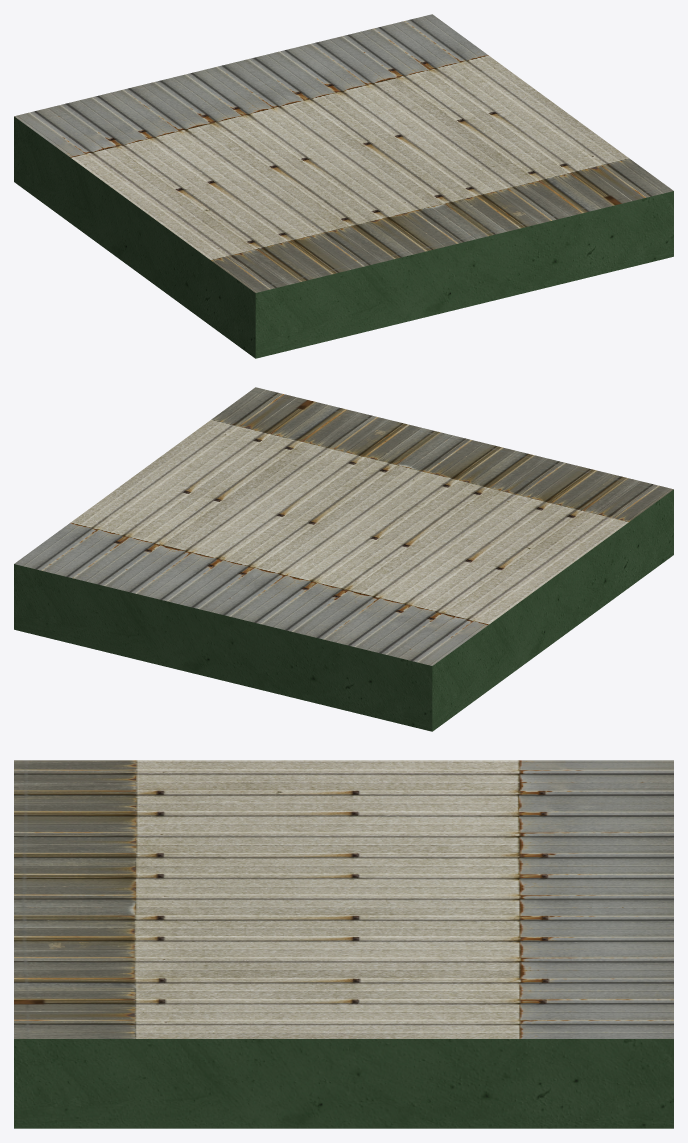
Rendered from bridgePiece1.FBX.
The picture shows the model from 3 angles, top to bottom: view 1: azimuth 30°, elevation 25°; view 2: azimuth 150°, elevation 25°; view 3: azimuth 270°, elevation 25°; orthographic projection. The views are drawn at different scales.
Visible parts, largest first — view 1: Box001; view 2: Box001; view 3: Box001.
Boxes of the visible parts, box(x1,y1,x2,y2) form: Box001: box(14, 14, 673, 358); Box001: box(14, 387, 673, 731); Box001: box(14, 760, 673, 1128).
Size of the model in its own units: 40 by 6 by 40.
1 material, 1 textured.
